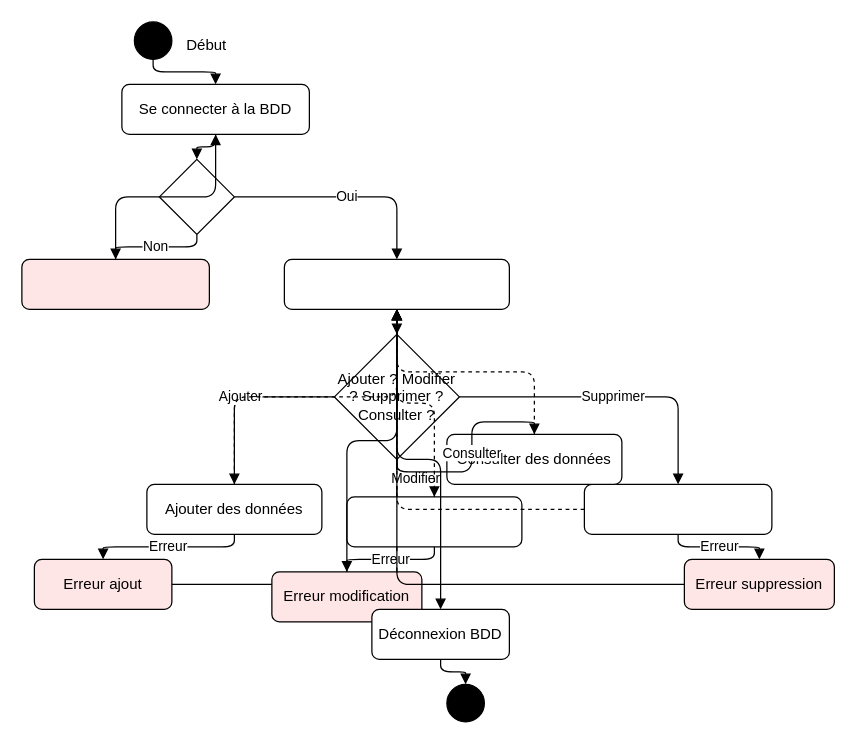
Image size: 856x744. Some labels were removed from this diagram. The shapes that lost their labels are listed below. From the top down, each one's centre as x and y in pixels, then its label:
point 196,196: Connexion réussie ?
point 115,283: Afficher erreur & Recommencer
point 396,283: Sélectionner une opération
point 434,521: Modifier des données
point 677,508: Supprimer des données
